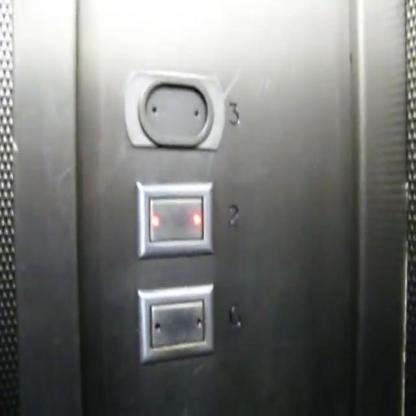empty: (120, 65, 226, 153), (134, 281, 216, 366), (131, 178, 215, 258)
